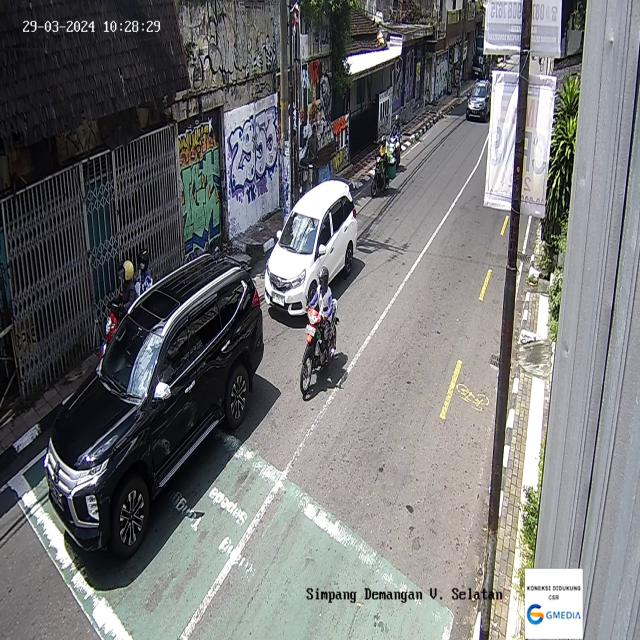car: (44, 250, 264, 560), (264, 178, 358, 316), (466, 78, 491, 122)
motorcycle: (94, 251, 156, 367), (299, 266, 340, 400), (370, 137, 396, 198), (387, 113, 402, 170)
